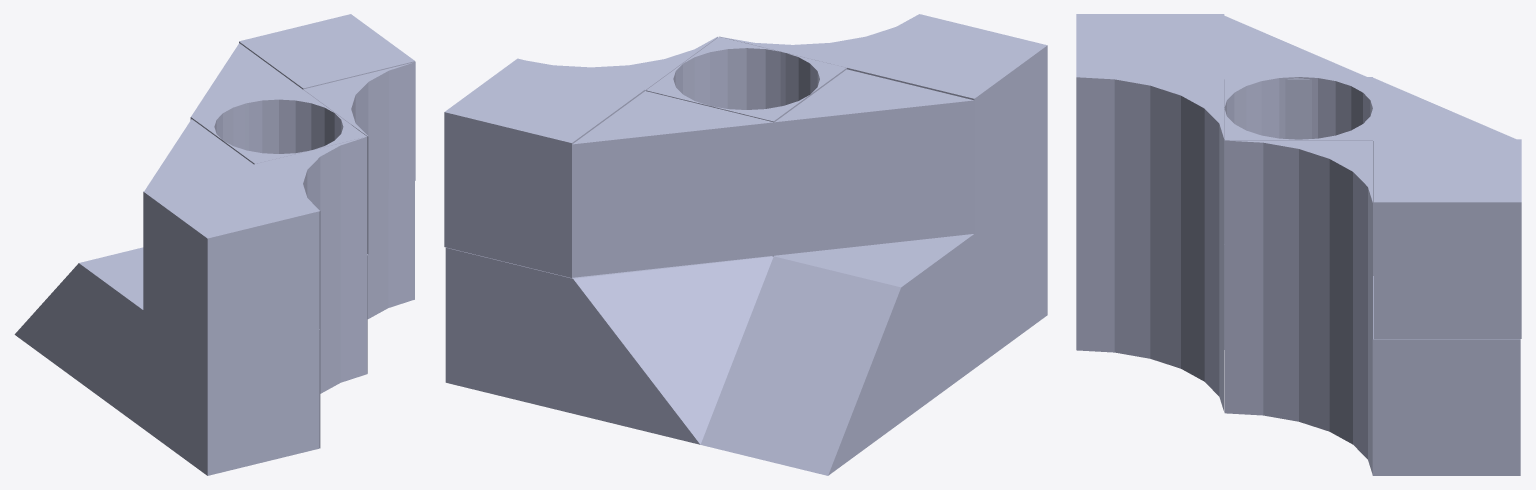
3 views of the same model, side by side, from view 1: azimuth 30°, elevation 25°; view 2: azimuth 150°, elevation 25°; view 3: azimuth 270°, elevation 25° (orthographic). The views are drawn at different scales.
Visible parts, largest first — view 1: modelo002; view 2: modelo002; view 3: modelo002.
Part boxes in pixels (bbox=[...]): modelo002: bbox=[14, 14, 415, 475]; modelo002: bbox=[444, 14, 1047, 475]; modelo002: bbox=[1076, 14, 1521, 475].
Bounding box in the file's own units: 0.1009 × 0.0681 × 0.1004.
